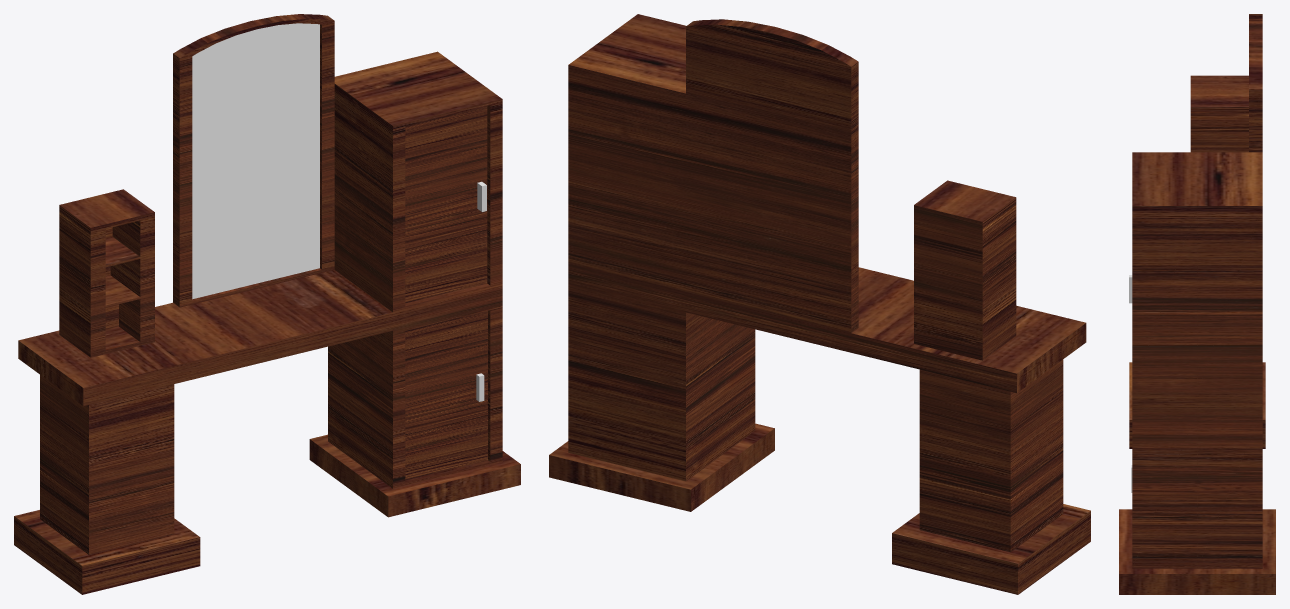
The model's file is Tolet.fbx.
3 views of the same model, side by side, from view 1: azimuth 30°, elevation 25°; view 2: azimuth 150°, elevation 25°; view 3: azimuth 270°, elevation 25° (orthographic). The views are drawn at different scales.
Parts seen in each view (by area): view 1: Toley, Atas, Bawah; view 2: Toley; view 3: Toley.
Part boxes in pixels (x1,y1,x2,y2): Toley: (14,14,520,594); Atas: (405,106,487,303); Bawah: (405,310,487,480); Toley: (549,14,1090,594); Toley: (1119,14,1275,594).
Size of the model in its own units: 315 by 325 by 98.7.
